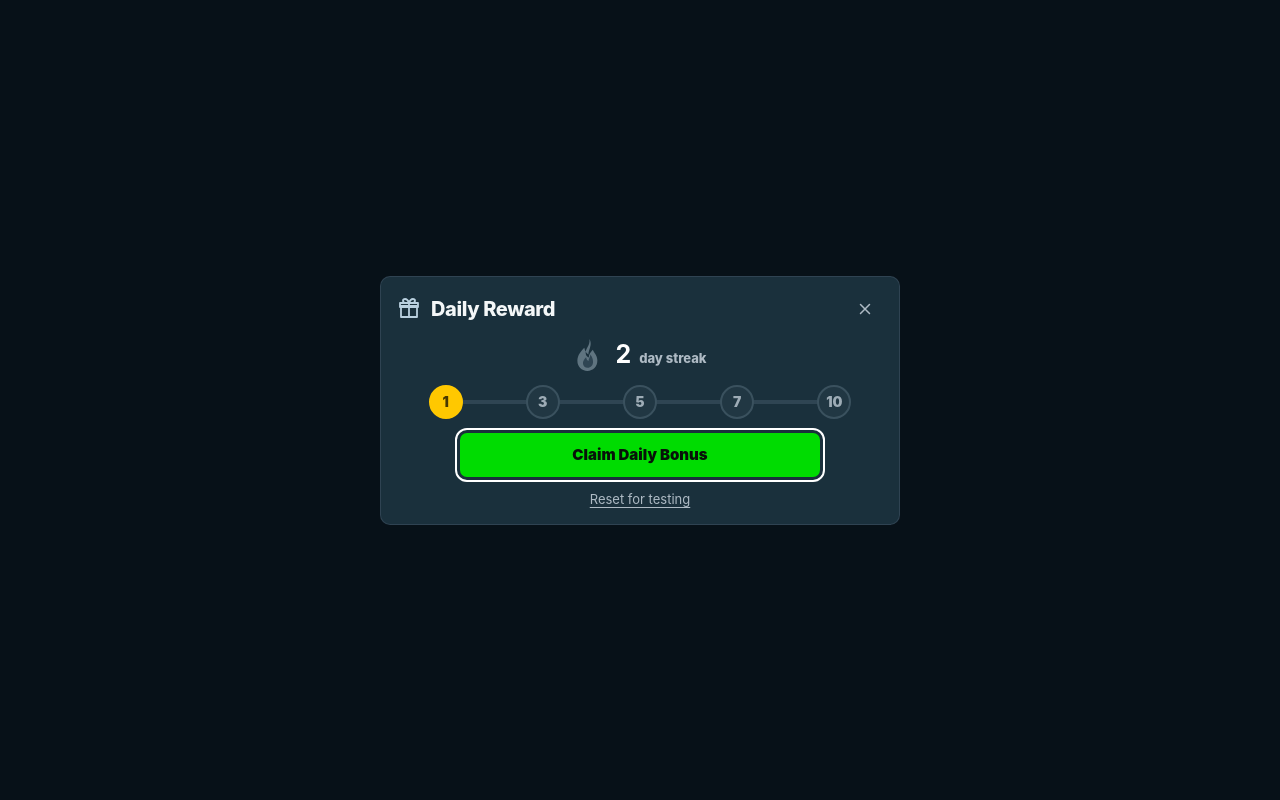
Test case: DailyBonusModal › shows claim failures without starting the reel
This screenshot has width=1280, height=800.
Click the button "Claim Daily Bonus": (640, 454) [460,432,820,476]
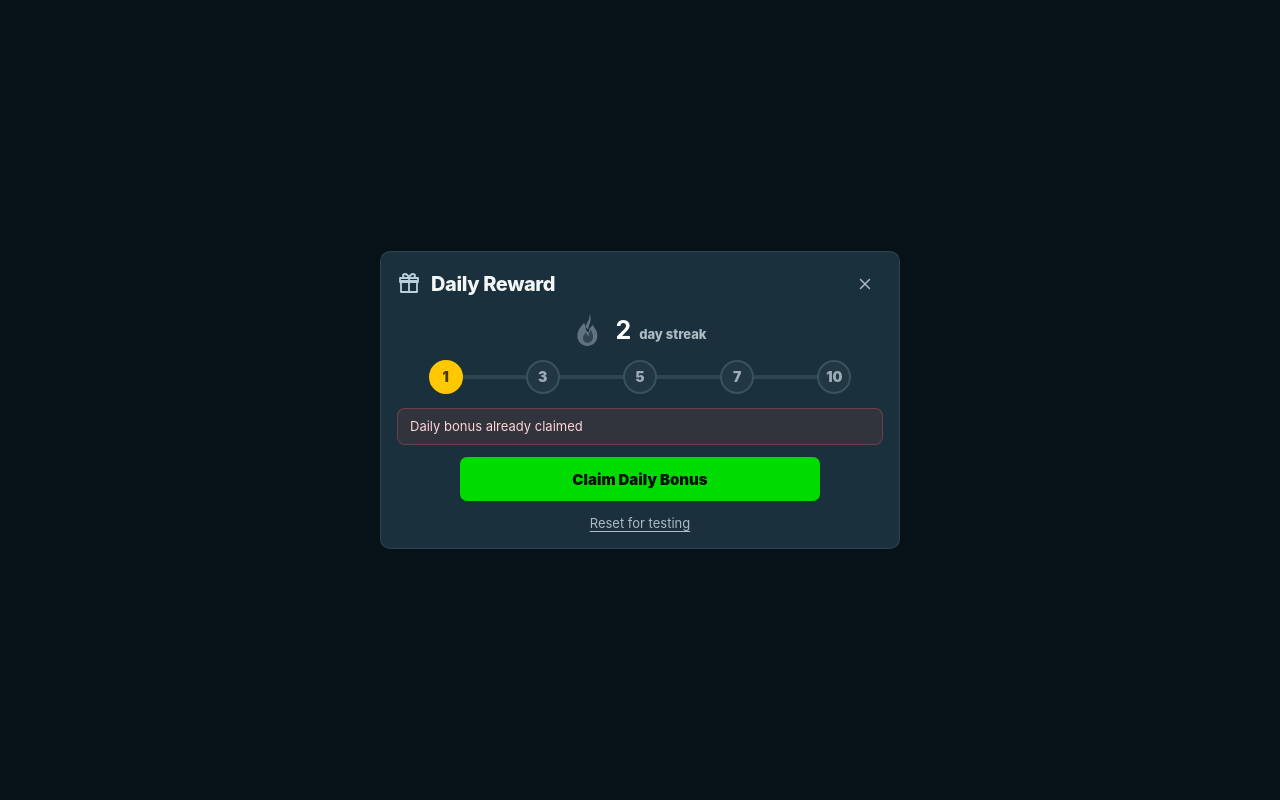
Now the message reads "Daily bonus already claimed", box [410,418,583,434]
